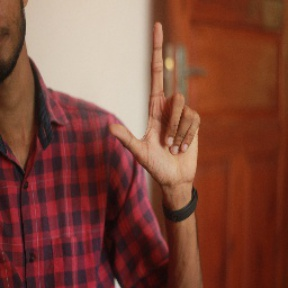L: (107, 20, 204, 183)
